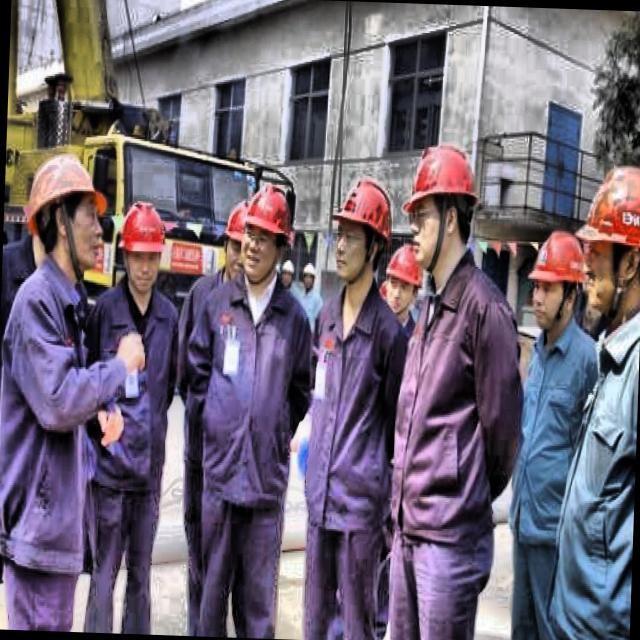helmet: (18, 144, 107, 282), (405, 136, 484, 272), (578, 156, 640, 322), (327, 170, 398, 288), (527, 226, 588, 334), (236, 181, 296, 279), (115, 202, 169, 300), (380, 242, 424, 319), (218, 198, 250, 288)
